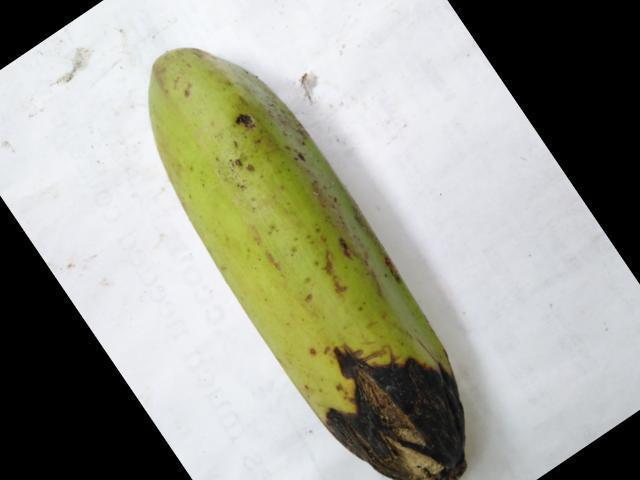rotten: (301, 331, 513, 479)
